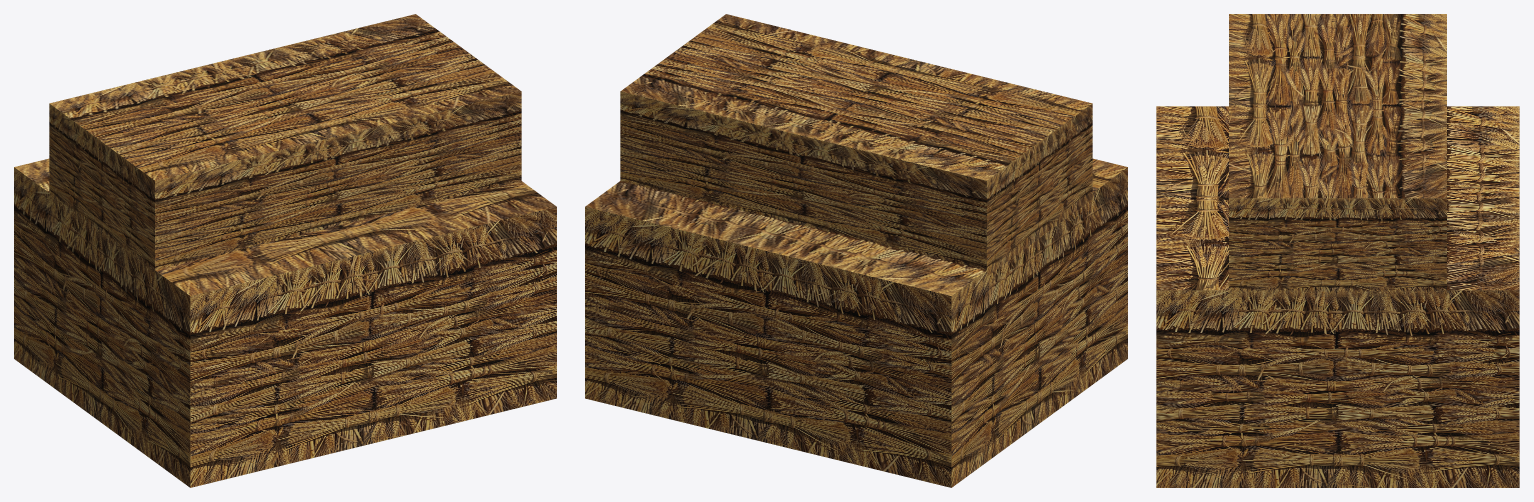
Rendered from farm.obj.
The picture shows the model from 3 angles, left to right: view 1: azimuth 30°, elevation 25°; view 2: azimuth 150°, elevation 25°; view 3: azimuth 270°, elevation 25°; orthographic projection. The views are drawn at different scales.
Parts seen in each view (by area): view 1: building; view 2: building; view 3: building.
Boxes of the visible parts, x1=… form: building: x1=14, y1=14, x2=556, y2=487; building: x1=585, y1=14, x2=1127, y2=487; building: x1=1156, y1=14, x2=1519, y2=487.
Size of the model in its own units: 3 by 2.2 by 2.5.
